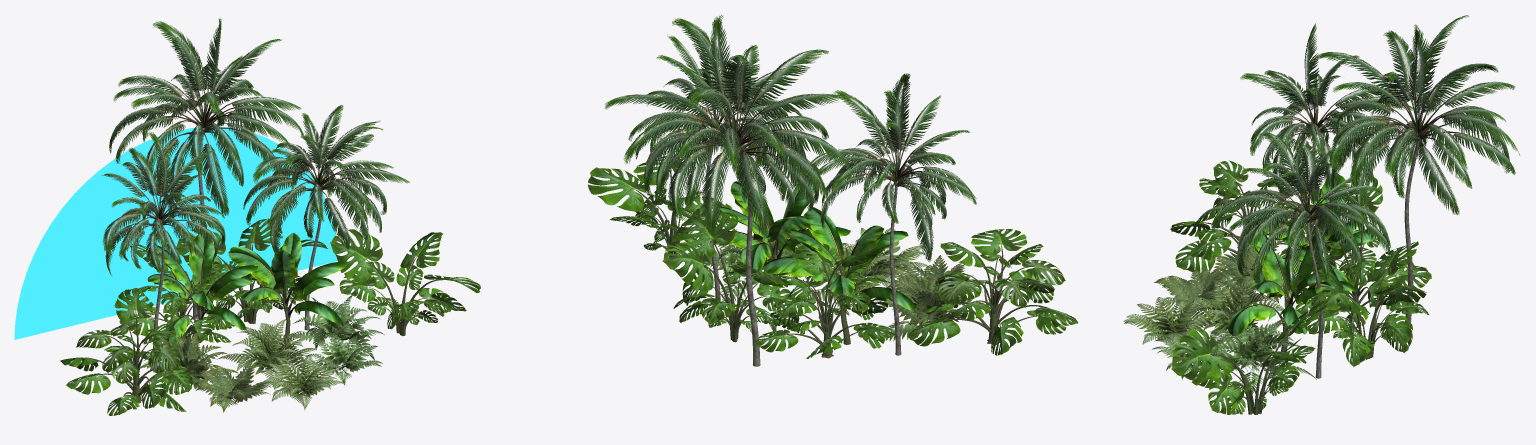
3 views of the same model, side by side, from view 1: azimuth 30°, elevation 25°; view 2: azimuth 150°, elevation 25°; view 3: azimuth 270°, elevation 25° (orthographic). The views are drawn at different scales.
Parts seen in each view (by area): view 1: Circle, SM_MZRa_Palm_B082, SM_MZRa_Palm_B081, SM_MZRa_Palm_B083, tree.006SM_MZRa_Monstera_B071, tree.002SM_MZRa_Monstera_B074, SM_MZRa_Banana_B092, SM_MZRa_Banana_B091, tree.007SM_MZRa_Monstera_B072, SM_MZRa_Fern_B052, tree.003SM_MZRa_Monstera_B073, SM_MZRa_Fern_B053 (+4 smaller); view 2: SM_MZRa_Palm_B082, SM_MZRa_Palm_B083, tree.006SM_MZRa_Monstera_B071, tree.003SM_MZRa_Monstera_B073, tree.007SM_MZRa_Monstera_B072, SM_MZRa_Palm_B081, SM_MZRa_Banana_B091, tree.002SM_MZRa_Monstera_B074, SM_MZRa_Banana_B092, SM_MZRa_Fern_B051, SM_MZRa_Fern_B052, SM_MZRa_Fern_B053 (+2 smaller); view 3: SM_MZRa_Palm_B082, SM_MZRa_Palm_B081, SM_MZRa_Palm_B083, tree.002SM_MZRa_Monstera_B074, tree.003SM_MZRa_Monstera_B073, tree.006SM_MZRa_Monstera_B071, SM_MZRa_Banana_B092, tree.007SM_MZRa_Monstera_B072, SM_MZRa_Fern_B052, SM_MZRa_Fern_B053, SM_MZRa_Fern_B0522, SM_MZRa_Banana_B091 (+3 smaller).
Boxes of the visible parts, x1=… form: Circle: x1=14, y1=127, x2=337, y2=339; SM_MZRa_Palm_B082: x1=109, y1=18, x2=303, y2=319; SM_MZRa_Palm_B081: x1=243, y1=105, x2=409, y2=330; SM_MZRa_Palm_B083: x1=101, y1=132, x2=225, y2=365; tree.006SM_MZRa_Monstera_B071: x1=60, y1=288, x2=197, y2=415; tree.002SM_MZRa_Monstera_B074: x1=330, y1=229, x2=480, y2=335; SM_MZRa_Banana_B092: x1=228, y1=232, x2=348, y2=348; SM_MZRa_Banana_B091: x1=147, y1=232, x2=258, y2=344; tree.007SM_MZRa_Monstera_B072: x1=119, y1=244, x2=234, y2=346; SM_MZRa_Fern_B052: x1=216, y1=319, x2=316, y2=390; tree.003SM_MZRa_Monstera_B073: x1=176, y1=218, x2=327, y2=323; SM_MZRa_Fern_B053: x1=285, y1=294, x2=384, y2=360; SM_MZRa_Palm_B082: x1=623, y1=15, x2=852, y2=366; SM_MZRa_Palm_B083: x1=802, y1=73, x2=976, y2=355; tree.006SM_MZRa_Monstera_B071: x1=908, y1=229, x2=1078, y2=355; tree.003SM_MZRa_Monstera_B073: x1=662, y1=201, x2=794, y2=342; tree.007SM_MZRa_Monstera_B072: x1=754, y1=243, x2=896, y2=358; SM_MZRa_Palm_B081: x1=604, y1=28, x2=802, y2=309; SM_MZRa_Banana_B091: x1=763, y1=207, x2=916, y2=344; tree.002SM_MZRa_Monstera_B074: x1=588, y1=148, x2=730, y2=269; SM_MZRa_Banana_B092: x1=713, y1=165, x2=850, y2=307; SM_MZRa_Fern_B051: x1=875, y1=270, x2=982, y2=341; SM_MZRa_Fern_B052: x1=794, y1=244, x2=902, y2=307; SM_MZRa_Fern_B053: x1=703, y1=224, x2=805, y2=310; SM_MZRa_Palm_B082: x1=1314, y1=15, x2=1520, y2=338; SM_MZRa_Palm_B081: x1=1211, y1=132, x2=1390, y2=378; SM_MZRa_Palm_B083: x1=1240, y1=23, x2=1414, y2=255; tree.002SM_MZRa_Monstera_B074: x1=1171, y1=300, x2=1327, y2=414; tree.003SM_MZRa_Monstera_B073: x1=1307, y1=241, x2=1428, y2=367; tree.006SM_MZRa_Monstera_B071: x1=1170, y1=160, x2=1317, y2=286; SM_MZRa_Banana_B092: x1=1228, y1=221, x2=1356, y2=352; tree.007SM_MZRa_Monstera_B072: x1=1295, y1=173, x2=1431, y2=332; SM_MZRa_Fern_B052: x1=1183, y1=279, x2=1293, y2=346; SM_MZRa_Fern_B053: x1=1199, y1=319, x2=1316, y2=393; SM_MZRa_Fern_B0522: x1=1123, y1=297, x2=1215, y2=349; SM_MZRa_Banana_B091: x1=1254, y1=173, x2=1377, y2=316.
Size of the model in its own units: 10.36 by 7.27 by 7.67.
Materials: 11 (10 with a texture image).
